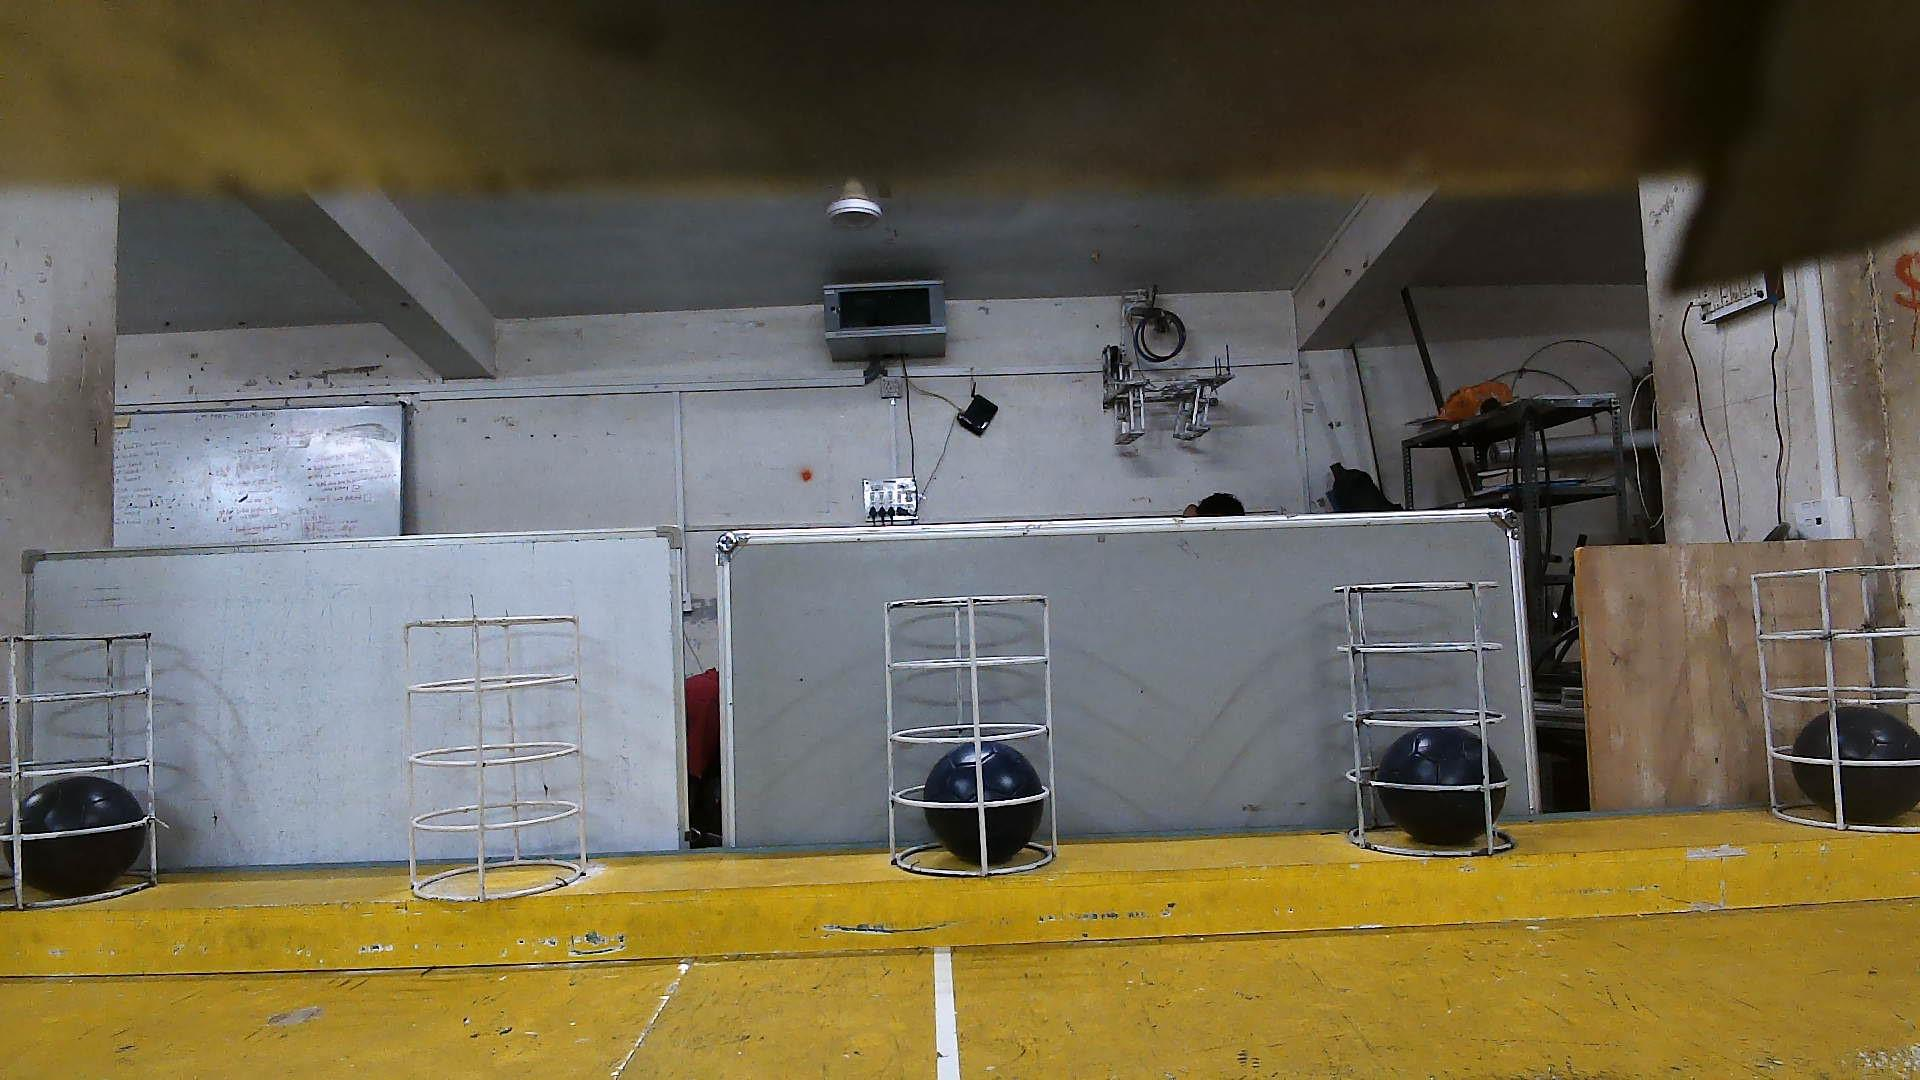dhoka: (5, 777, 146, 895), (1378, 728, 1509, 844), (924, 744, 1040, 858), (1788, 705, 1905, 818)
